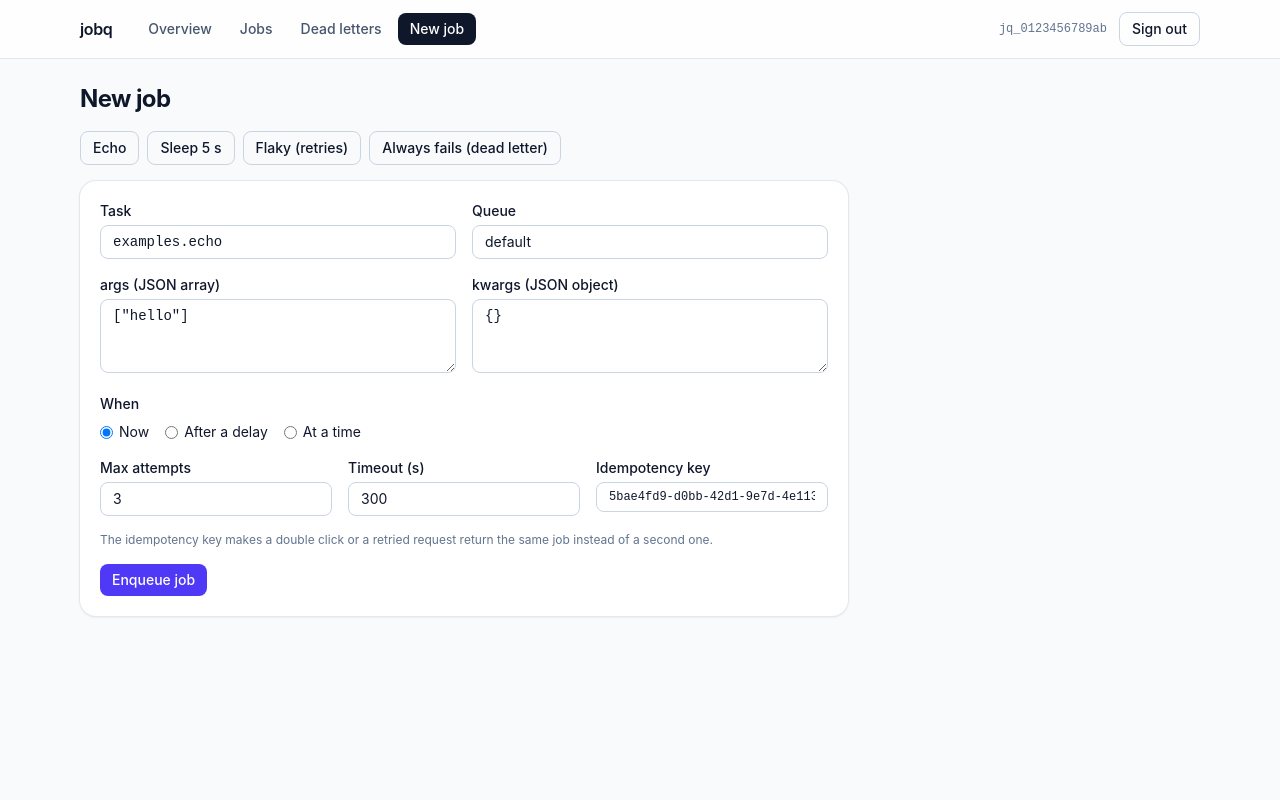
it: NewJobPage › enqueues with an idempotency key and opens the new job
Click the button "Flaky (retries)": [302, 148] box [242,131,361,165]
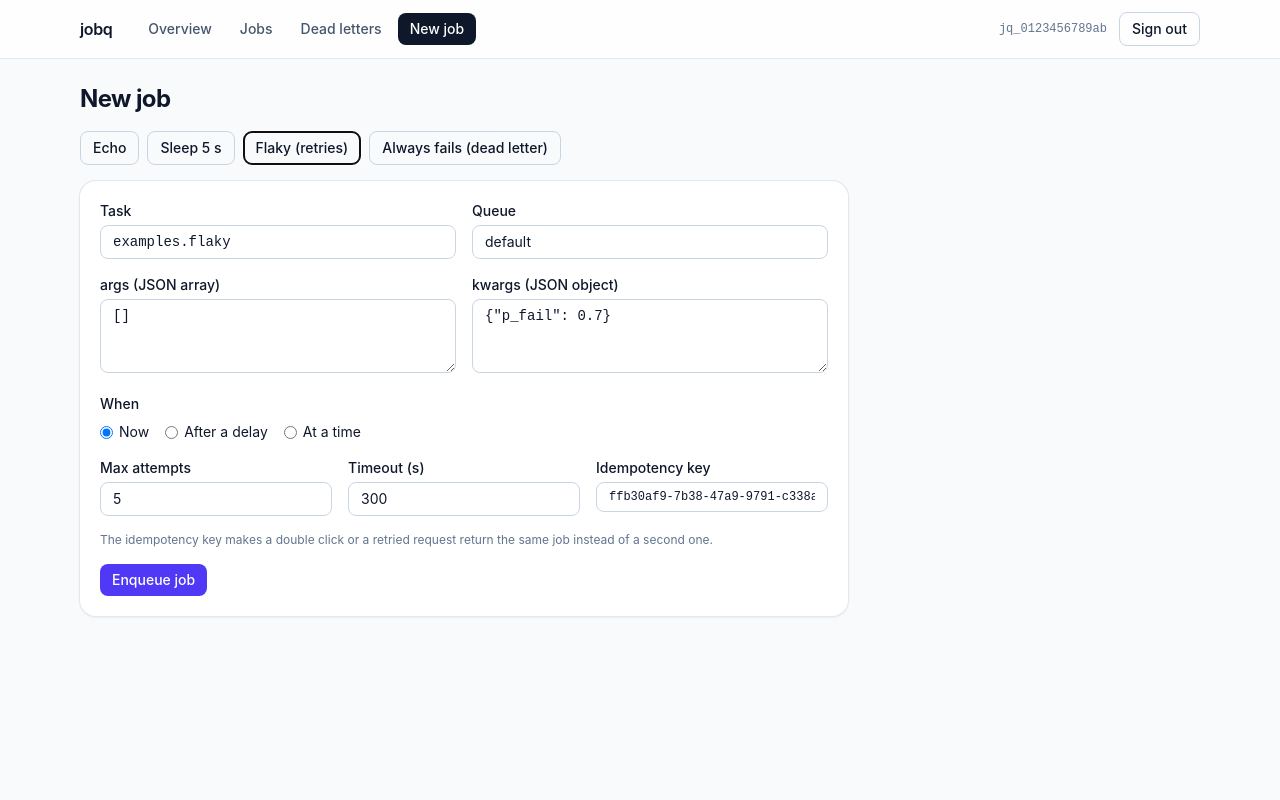
Click the radio button labelled "After a delay": [172, 432] box [165,426,178,438]
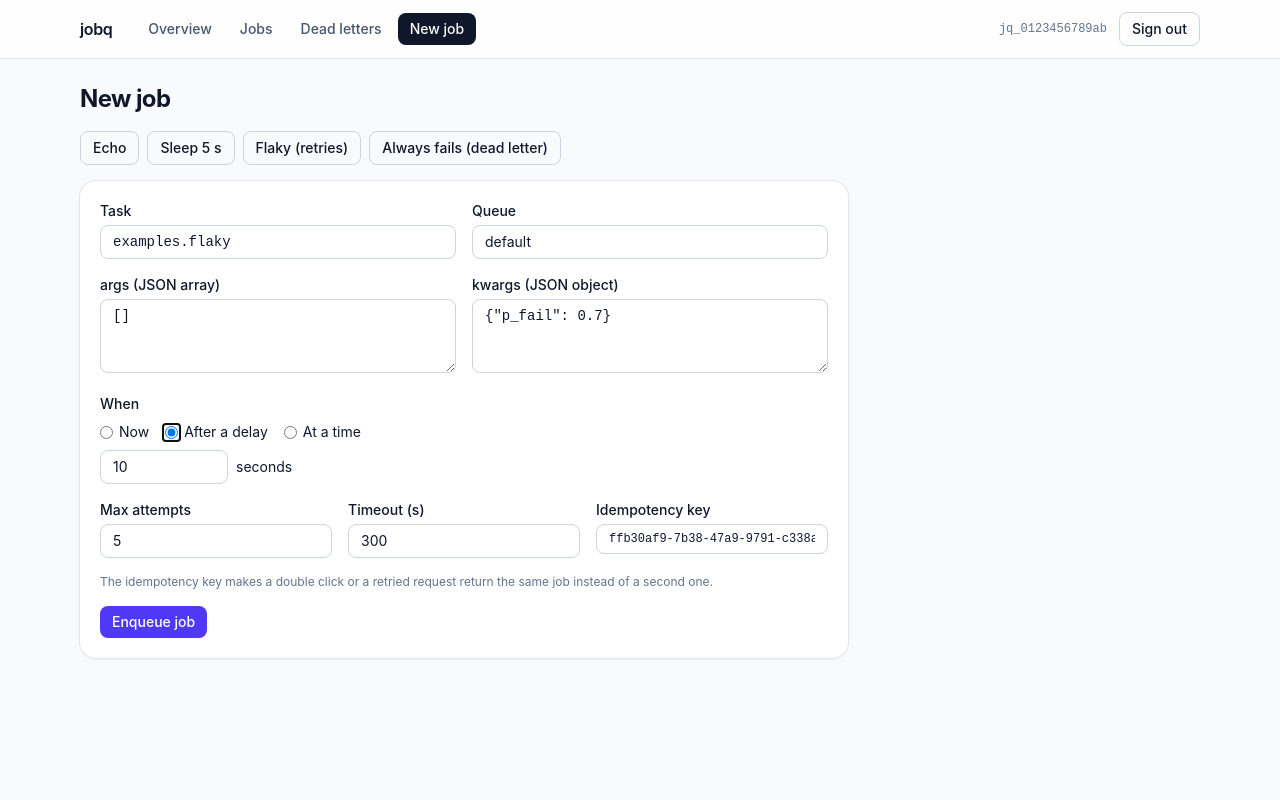
Click the button "Enqueue job": [154, 622] box [100,606,207,638]
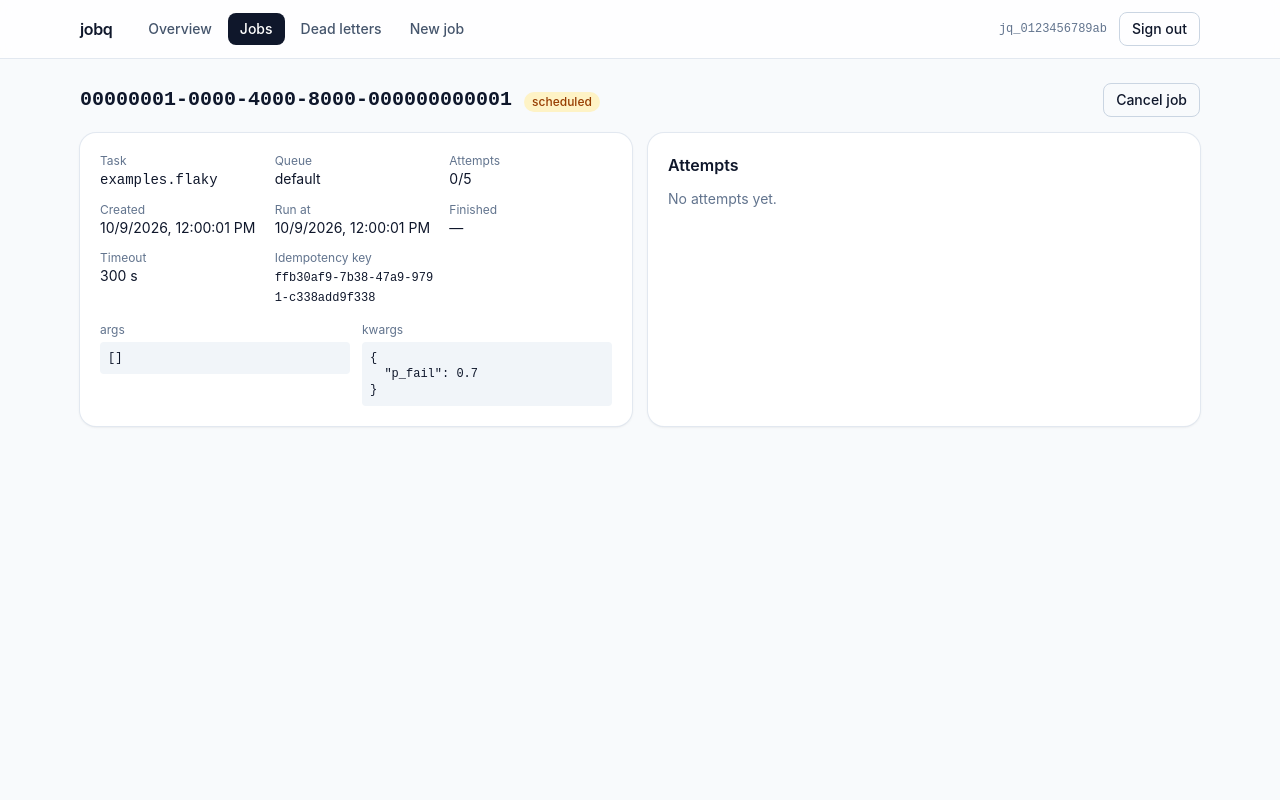
Check: the element with test id "job-status" reads "scheduled", box [532,94,592,109]
